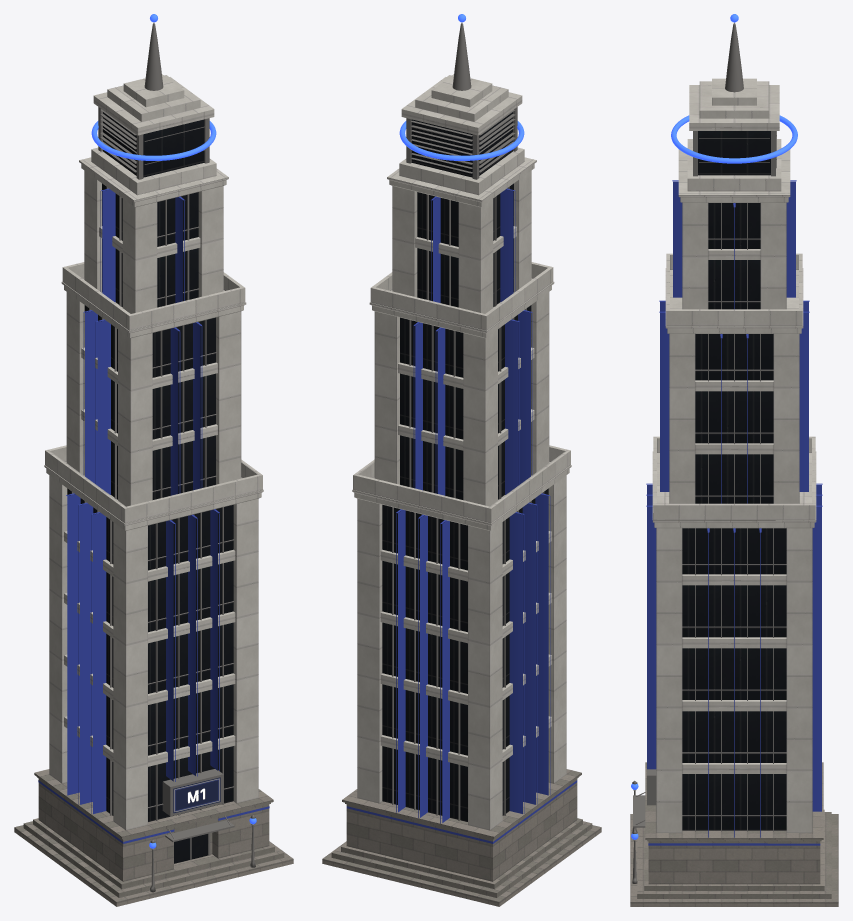
The model's file is s11-molecular.glb.
3 renders of one model, left to right at view 1: azimuth 30°, elevation 25°; view 2: azimuth 150°, elevation 25°; view 3: azimuth 270°, elevation 25°, orthographic.
Visible parts, largest first — view 1: Landmark · Molecular (Series 11); view 2: Landmark · Molecular (Series 11); view 3: Landmark · Molecular (Series 11).
Boxes of the visible parts, x1,y1,x2,y2 form: Landmark · Molecular (Series 11): (14,14,293,906); Landmark · Molecular (Series 11): (322,14,601,906); Landmark · Molecular (Series 11): (630,14,838,906).
Bounding box in the file's own units: 12 × 54 × 12.
Materials: 7 (4 with a texture image).
